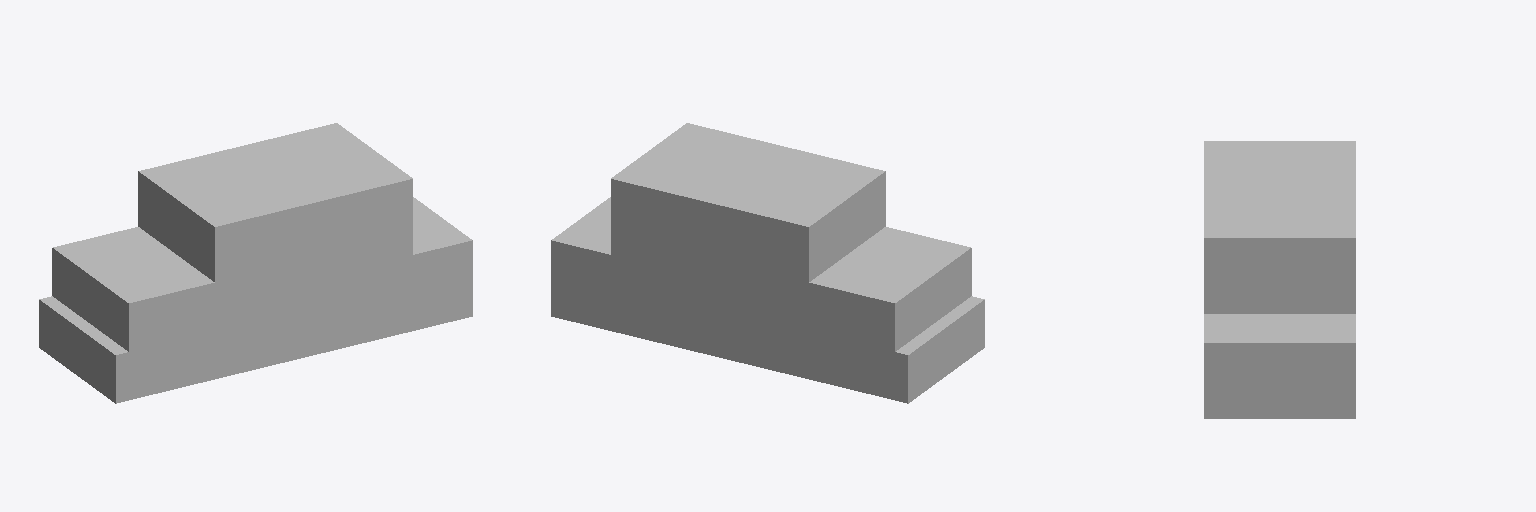
Rendered from car1.obj.
3 renders of one model, left to right at view 1: azimuth 30°, elevation 25°; view 2: azimuth 150°, elevation 25°; view 3: azimuth 270°, elevation 25°, orthographic.
Size of the model in its own units: 54 by 22 by 20.